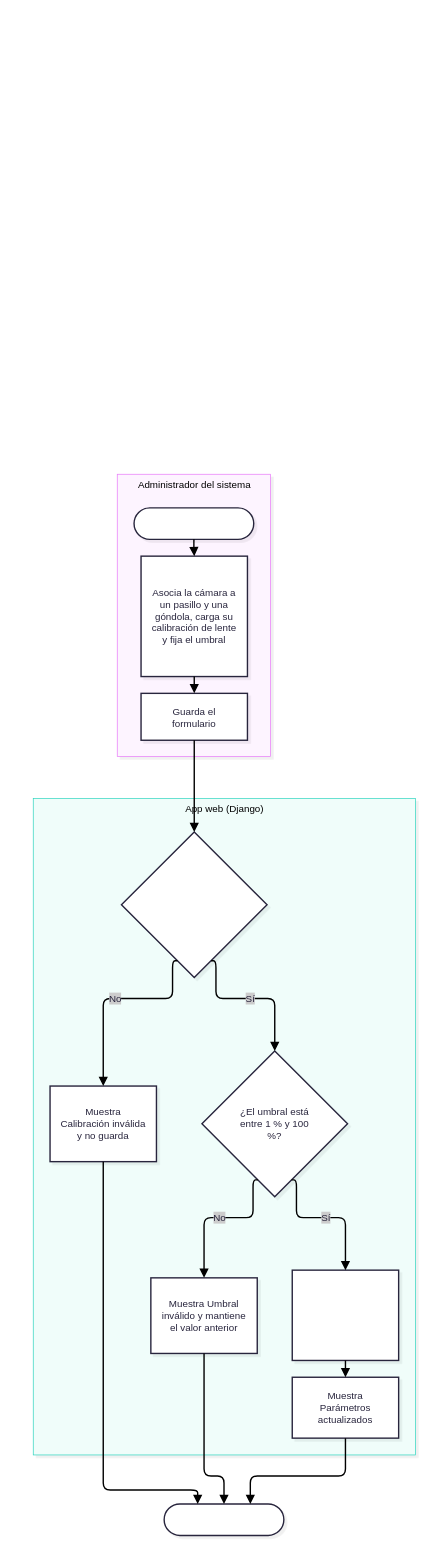
Image size: 431x1551. Some labels were removed from this diagram. The shapes that lost their labels are listed below. From the top down, each one's centre as x and y in pixels, then its label:
At point 195,524: "Inicio".
At point 195,906: "¿La calibración es un JSON válido, con matriz 3x3 y coeficientes de distorsíon?".
At point 346,1316: "Guarda la asociación, la calibración y el umbral en la base de datos".
At point 225,1521: "Fin".
